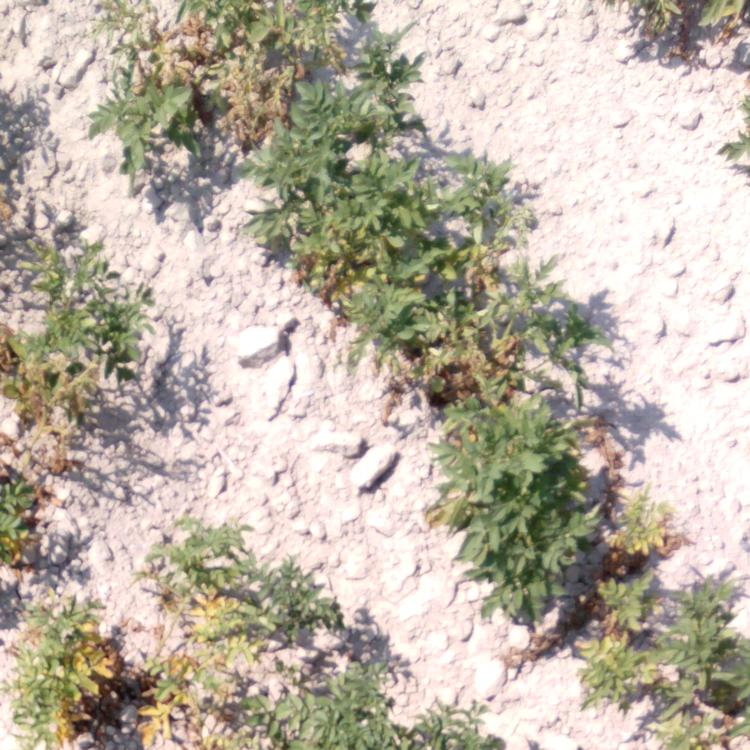healthy: (247, 137, 498, 217), (453, 415, 546, 588), (277, 672, 464, 746), (683, 591, 743, 707)
stressed: (108, 3, 336, 133), (1, 227, 140, 439), (141, 528, 306, 656), (560, 512, 668, 680), (14, 597, 122, 740), (436, 252, 540, 398), (296, 219, 419, 328), (152, 660, 253, 747), (620, 1, 738, 57), (1, 483, 66, 572)
